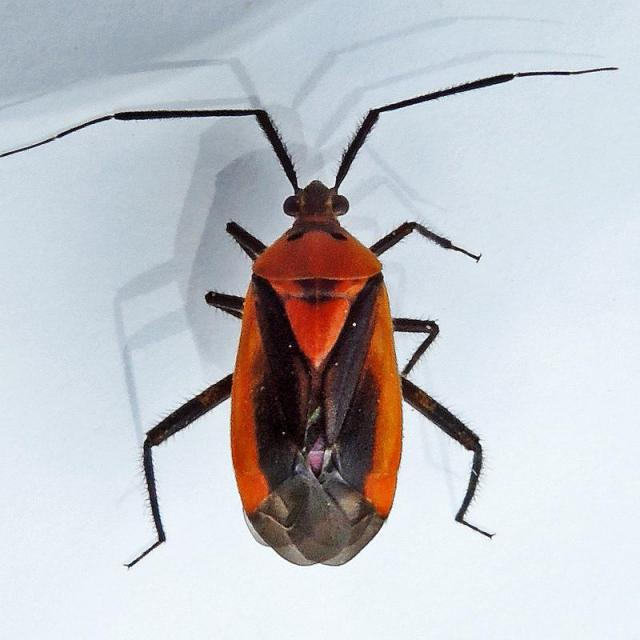Miridae-Adult-: (11, 60, 630, 575)
